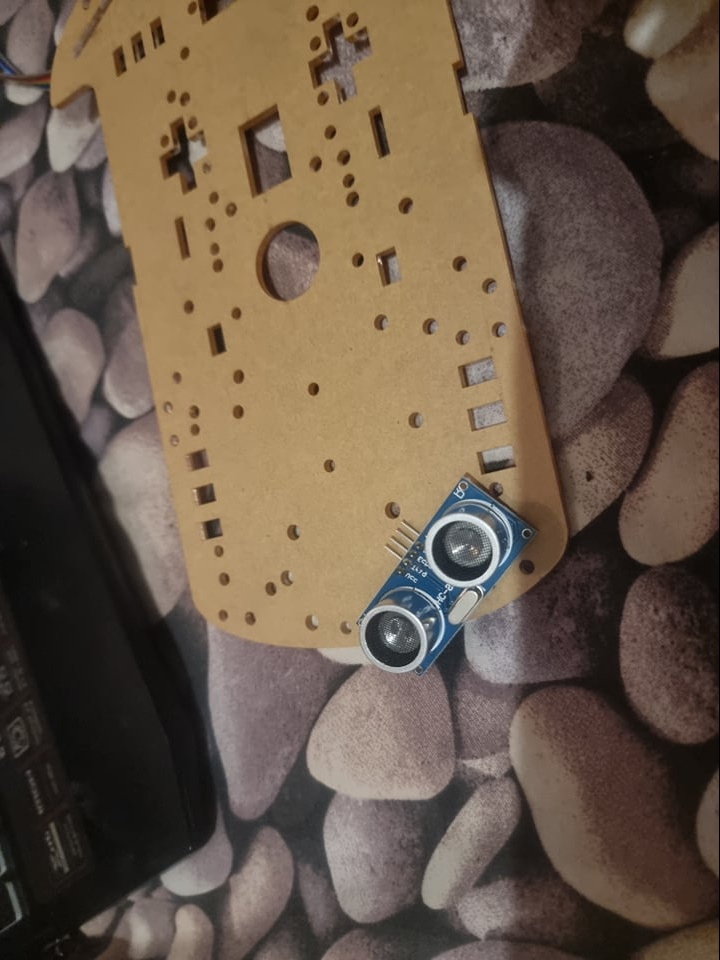SENSOR: (358, 469, 542, 676)
